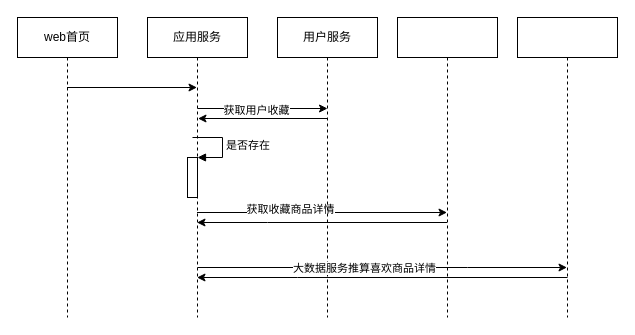
Image size: 635x335. Some labels were removed from this diagram. The box of each missing label's shape, as (x1, y1, x2, y2) in pixels:
商品服务: (396, 16, 498, 318)
大数据 推荐服务: (516, 16, 618, 318)
